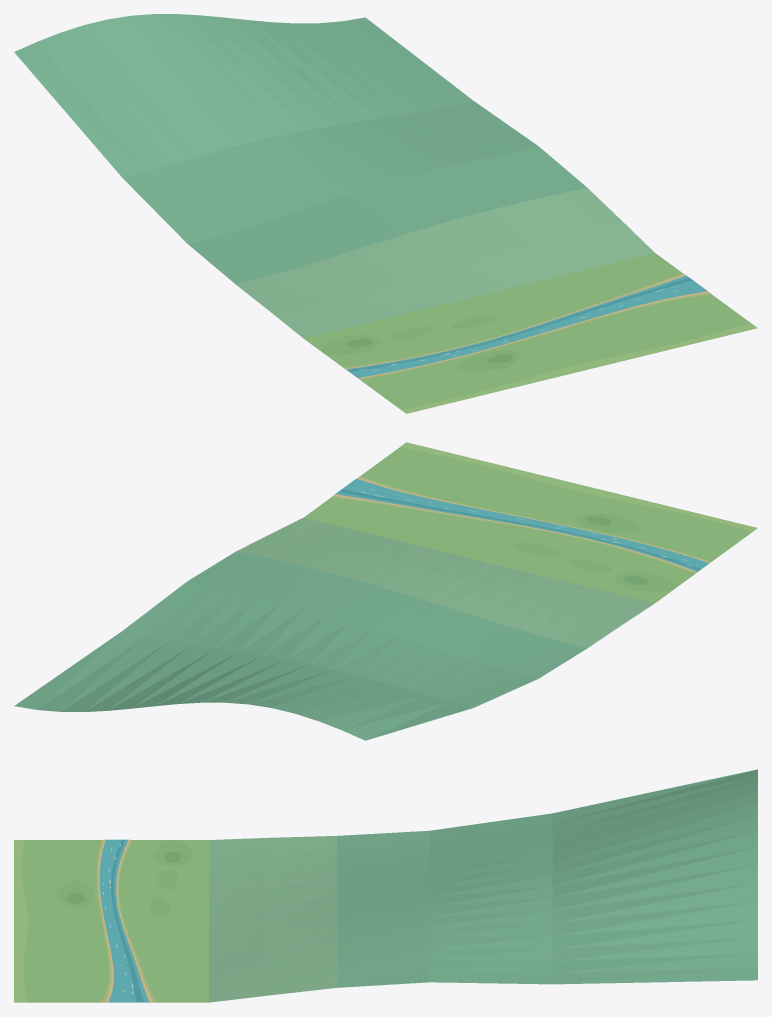
Rendered from Ruisseau_3.fbx.
3 renders of one model, top to bottom at view 1: azimuth 30°, elevation 25°; view 2: azimuth 150°, elevation 25°; view 3: azimuth 270°, elevation 25°, orthographic. The views are drawn at different scales.
Parts seen in each view (by area): view 1: Ruisseau_3; view 2: Ruisseau_3; view 3: Ruisseau_3.
Boxes of the visible parts, x1,y1,x2,y2 form: Ruisseau_3: [14, 14, 757, 413]; Ruisseau_3: [14, 442, 757, 740]; Ruisseau_3: [14, 769, 757, 1002].
Size of the model in its own units: 7508 by 1722 by 14504.
Materials: 1 (1 with a texture image).
